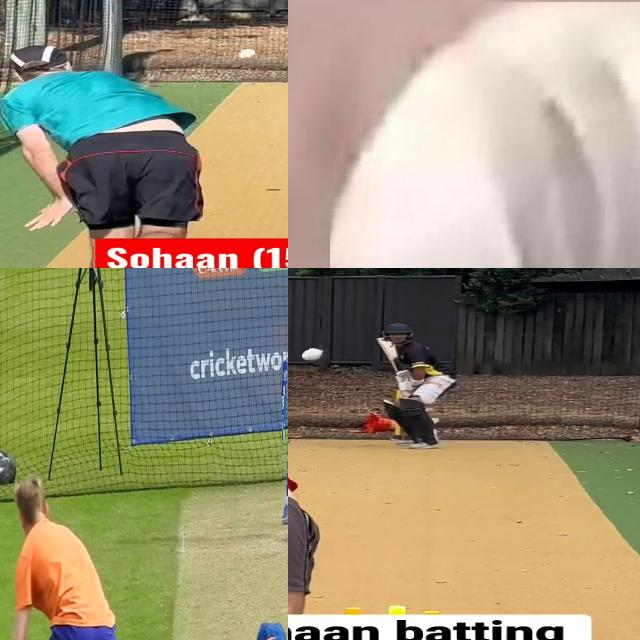Cricket ball: (329, 2, 640, 268), (302, 348, 325, 364), (238, 49, 257, 60)
